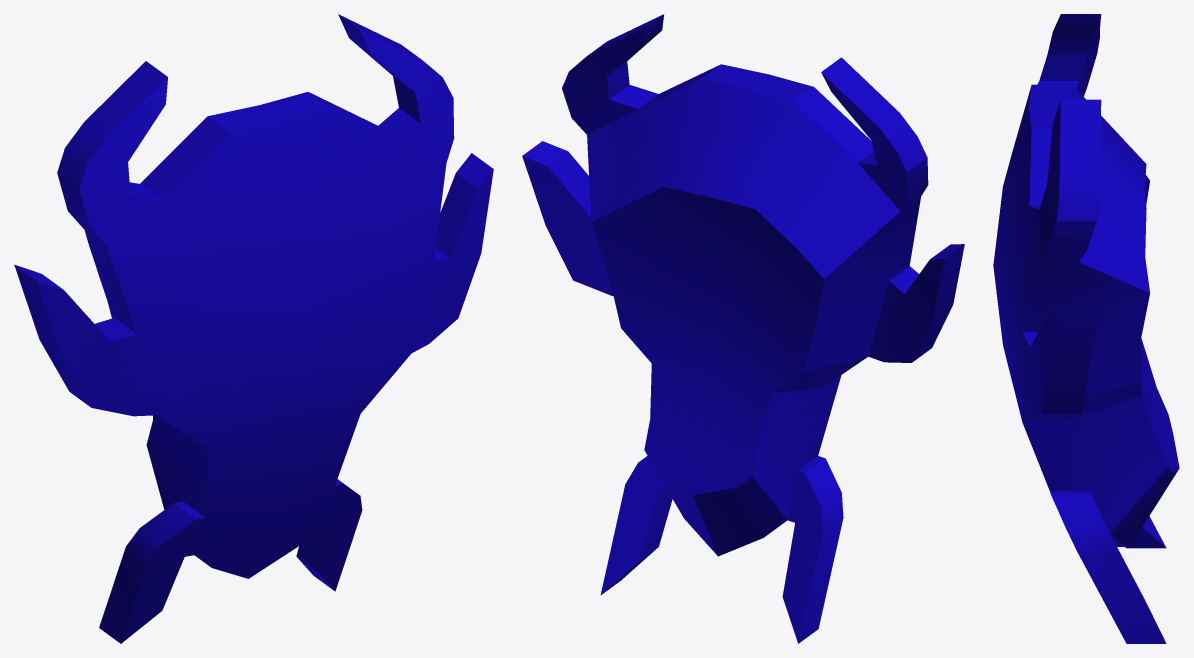
The model's file is enemy_large.fbx.
3 views of the same model, side by side, from view 1: azimuth 30°, elevation 25°; view 2: azimuth 150°, elevation 25°; view 3: azimuth 270°, elevation 25° (orthographic). The views are drawn at different scales.
Parts seen in each view (by area): view 1: enemy_large; view 2: enemy_large; view 3: enemy_large.
Boxes of the visible parts, box(x1,y1,x2,y2) form: enemy_large: box(14, 14, 493, 643); enemy_large: box(522, 14, 964, 643); enemy_large: box(993, 14, 1179, 643).
Bounding box in the file's own units: 551 × 680 × 213.
